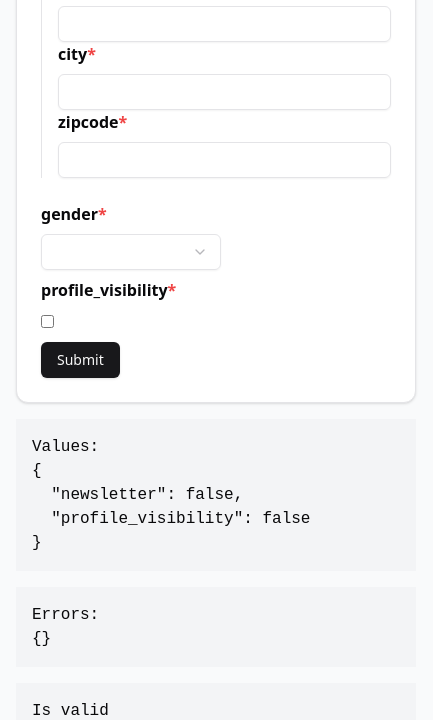
it: template spec › Required fields
(page scrolled)
Click the button "Submit": (81, 360) [41,342,120,378]
(page scrolled)
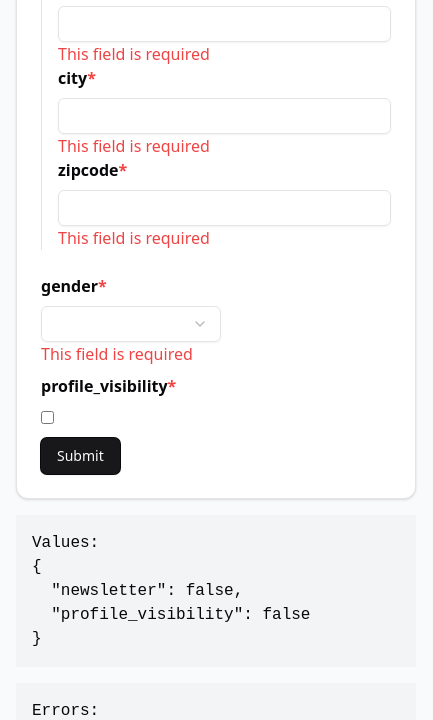
Check: the 1st text "This field is required" is shown, box [58,43,210,65]
Check: the 2nd text "This field is required" is shown, box [58,135,210,157]
Check: the 3rd text "This field is required" is shown, box [58,227,210,249]
